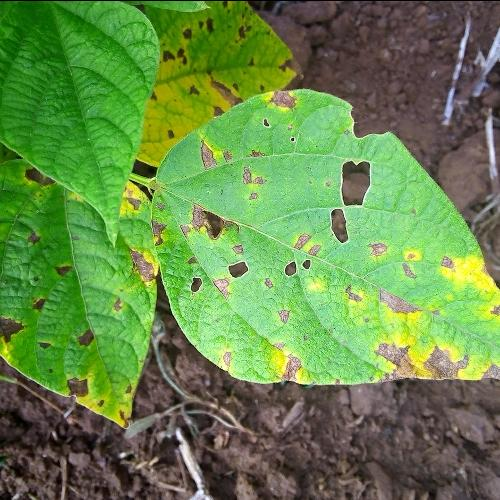embun tepung: (173, 188, 324, 317), (319, 140, 393, 257)
hawar: (195, 226, 499, 388)
